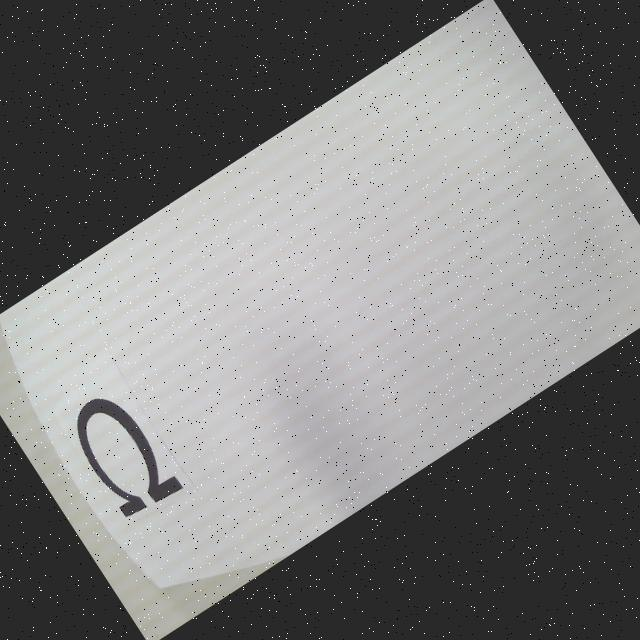OMEGA: (61, 383, 184, 523)
